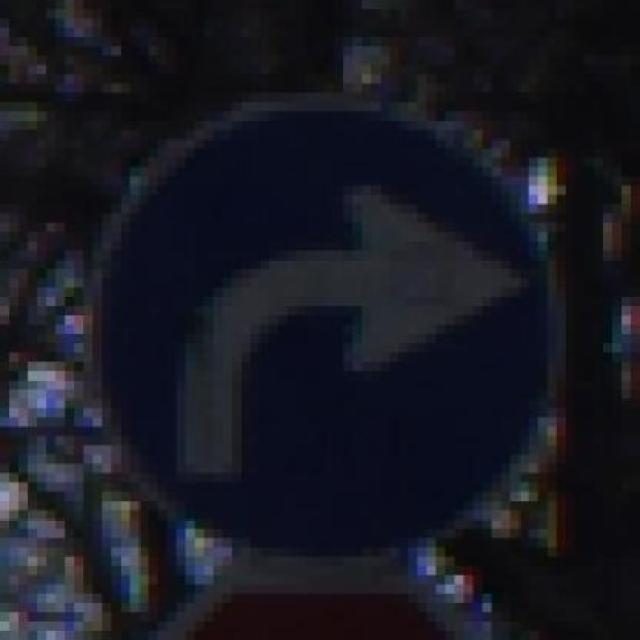Turn right ahead: (74, 92, 566, 576)
